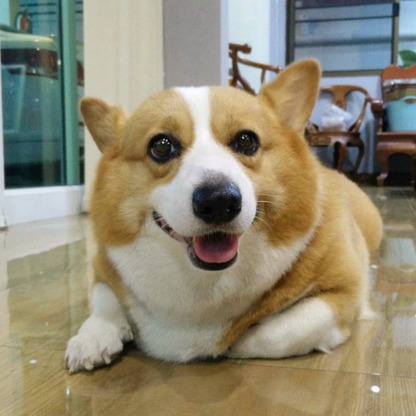Corgi: (64, 74, 388, 371)
